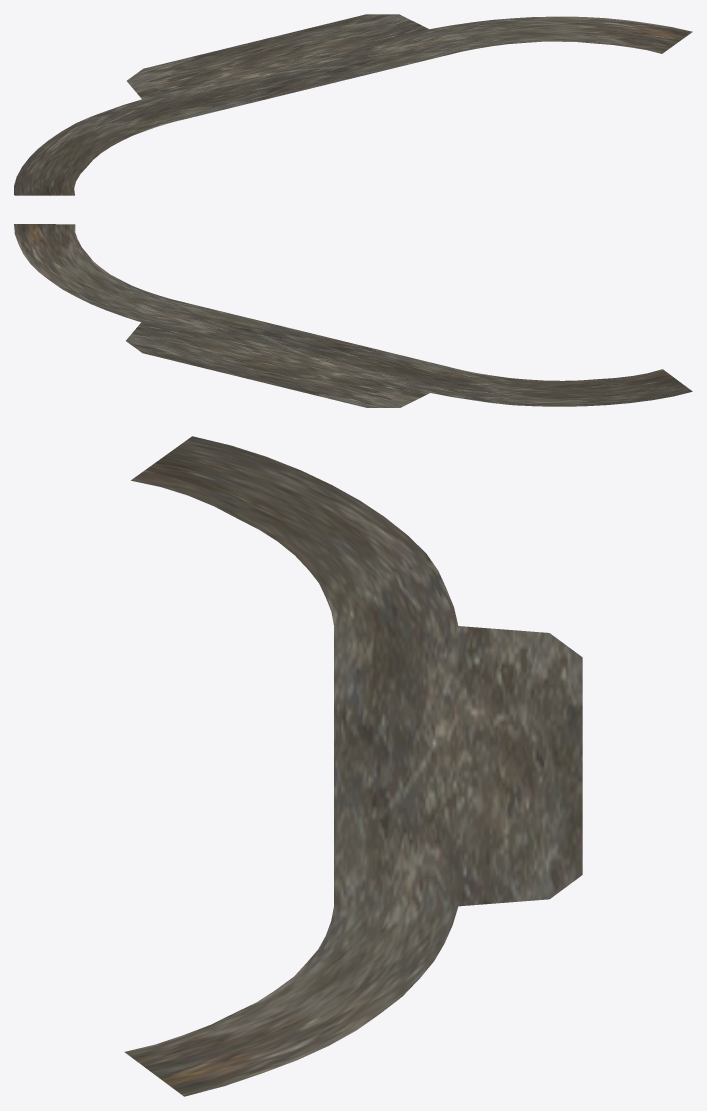
File: bg_lut_lutomb_water02_sm_old.FBX
3 views of the same model, one above another, from view 1: azimuth 30°, elevation 25°; view 2: azimuth 150°, elevation 25°; view 3: azimuth 270°, elevation 25° (orthographic). The views are drawn at different scales.
Visible parts, largest first — view 1: bg_lut_lutomb_water02_sm_old; view 2: bg_lut_lutomb_water02_sm_old; view 3: bg_lut_lutomb_water02_sm_old.
Boxes of the visible parts, box(x1,y1,x2,y2) form: bg_lut_lutomb_water02_sm_old: box(14, 14, 692, 195); bg_lut_lutomb_water02_sm_old: box(14, 224, 692, 407); bg_lut_lutomb_water02_sm_old: box(124, 436, 582, 1096).
Bounding box in the file's own units: 3015 × 0.000137 × 885.
